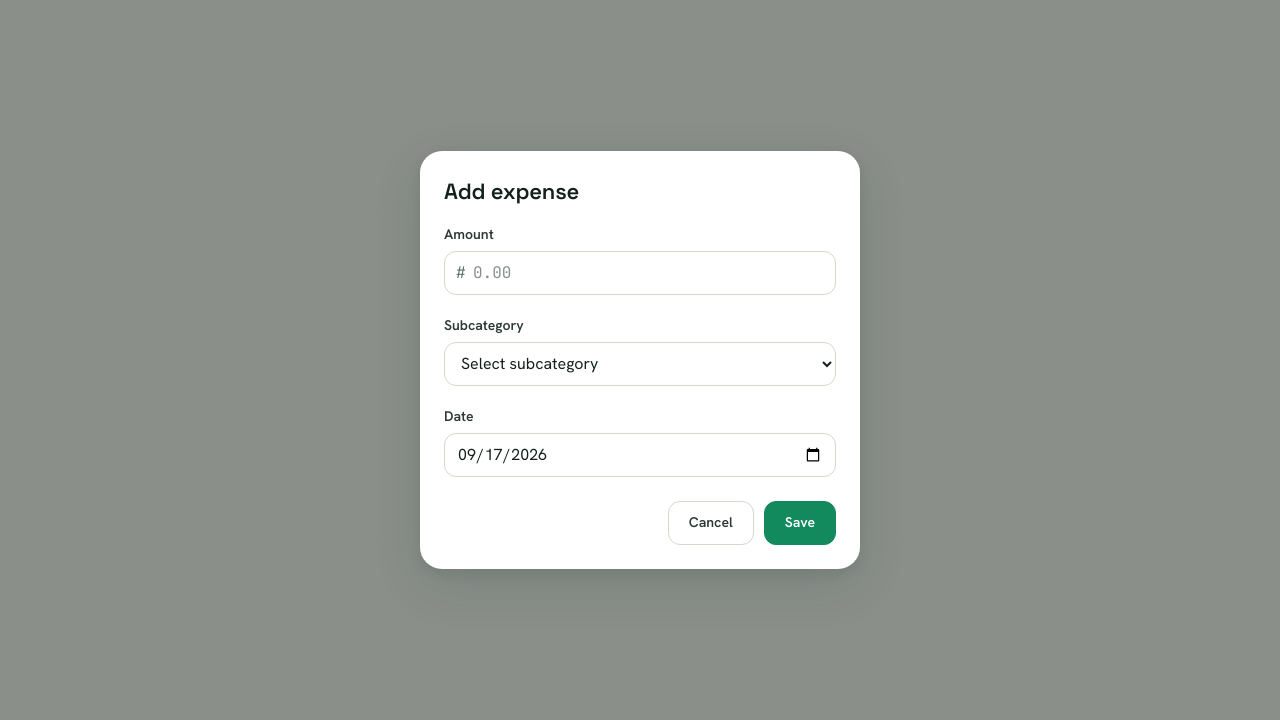
it: ExpenseForm › shows validation error for zero amount on submit
Type "0" into the field labelled "Amount" at (640, 273), box left=444, top=251, right=836, bottom=295
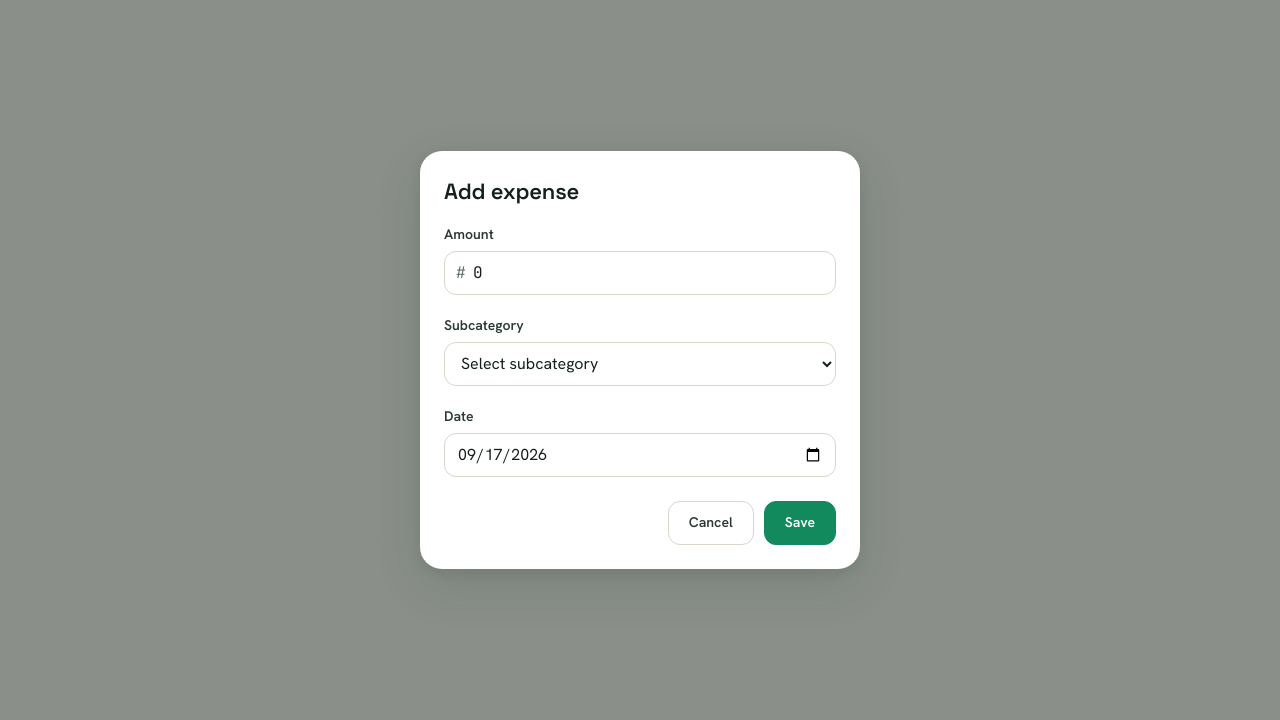
Click the button "Save" at (800, 523), box left=764, top=501, right=836, bottom=545
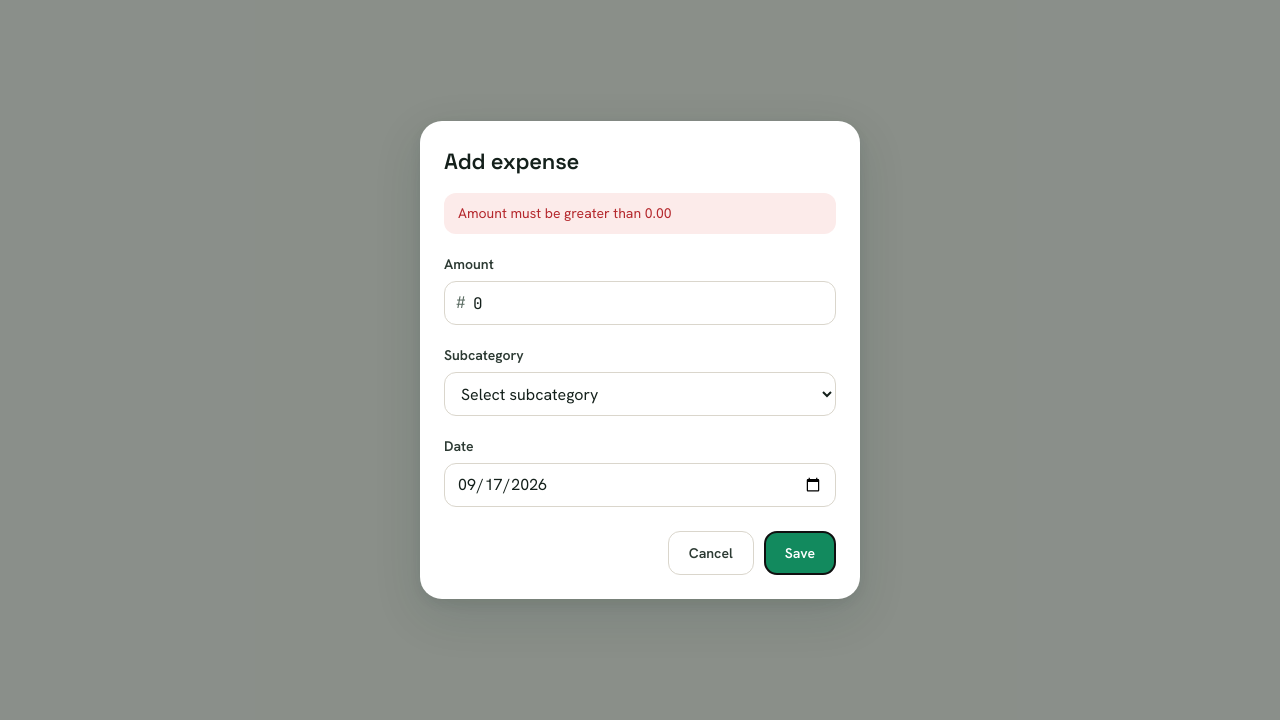
Expected: the message "Amount must be greater than 0.00" is shown, left=444, top=193, right=836, bottom=234
